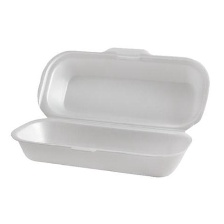foam_box: (6, 40, 216, 182)
